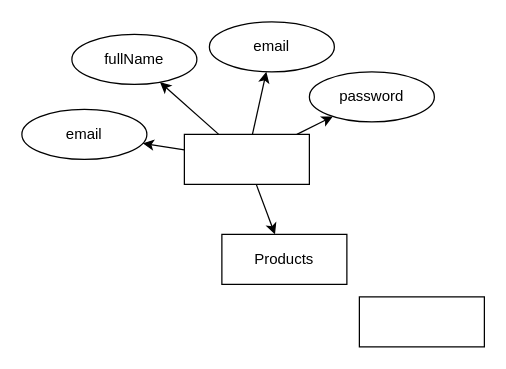
The diagram is 506 pixels wide and 369 high, and some of its shapes have lost their labels. Each missing label, with the centre of its shape:
Entity: the point at 421,321
Users: the point at 246,158
